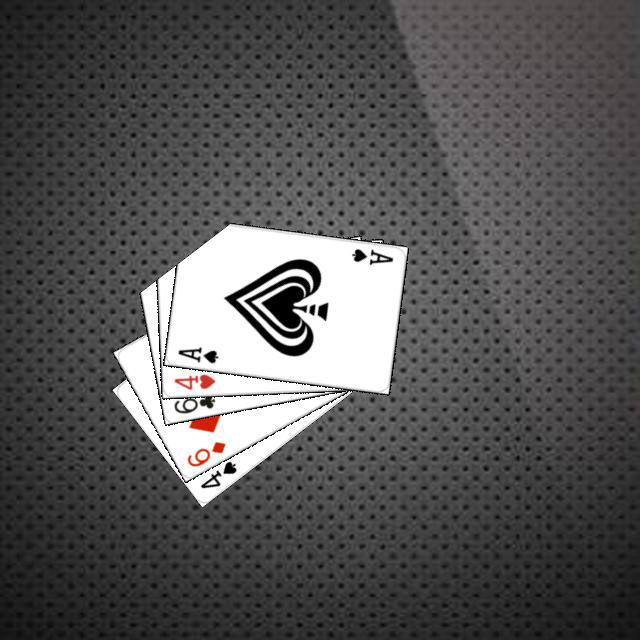4h: (169, 369, 217, 391)
4s: (195, 456, 239, 490)
6c: (169, 389, 217, 415)
6d: (182, 436, 227, 469)
As: (173, 342, 220, 365), (347, 244, 395, 266)
